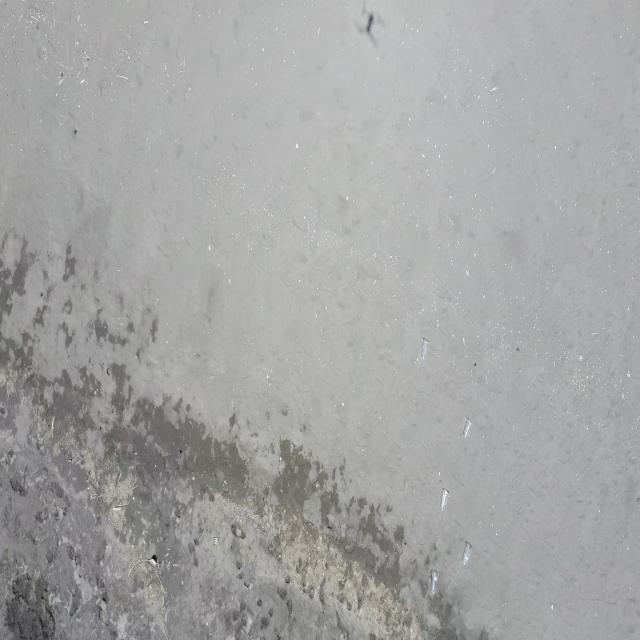takeaway-cup: (428, 566, 440, 599), (420, 334, 431, 364), (462, 540, 473, 566), (461, 416, 473, 438), (440, 487, 450, 510)
